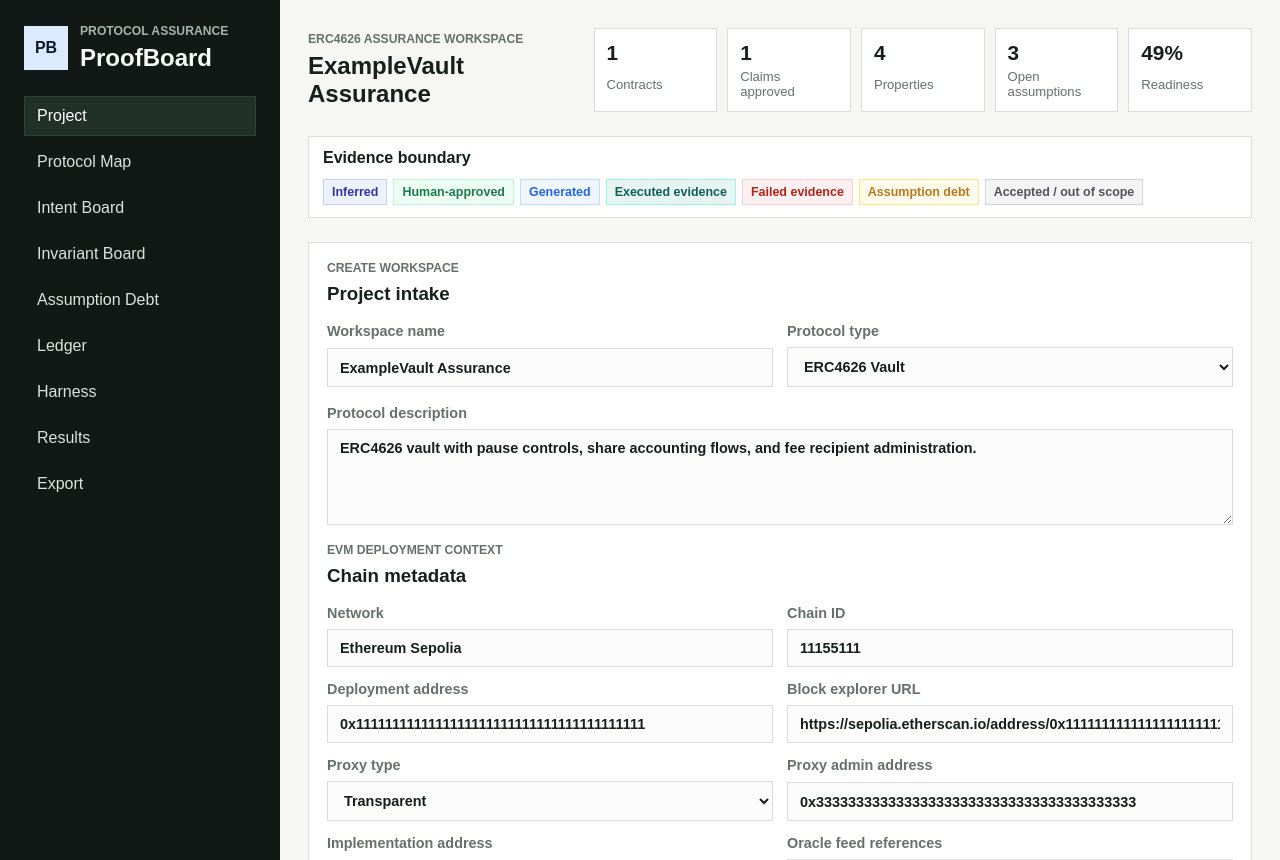
ProofBoard workspace › renders downloadable audit packet artifacts
Click the button "Export" at (140, 484), box [24,464,256,504]
(page scrolled)
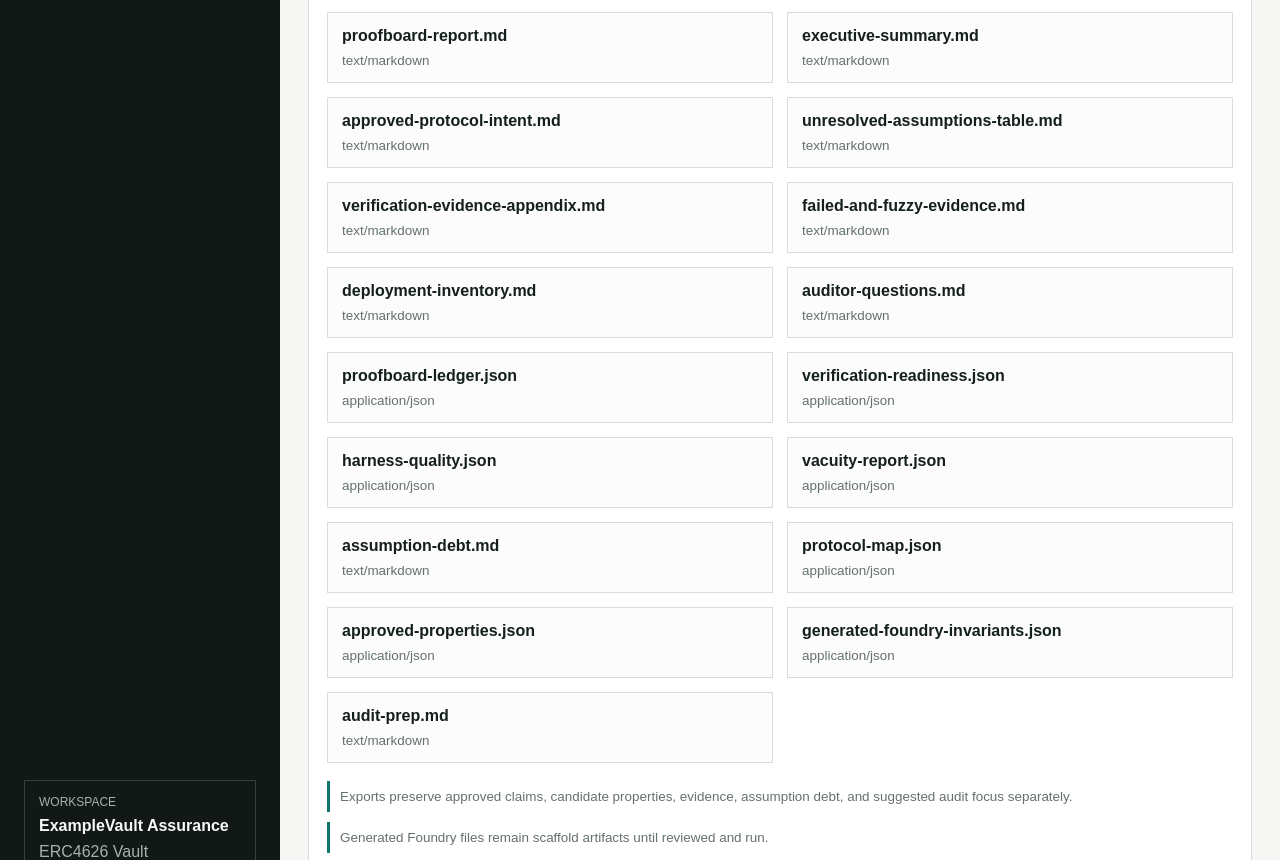
expect the button "proofboard-report.md text/markdown" is shown: met, box [327,12,773,83]
expect the button "executive-summary.md text/markdown" is shown: met, box [787,12,1233,83]
expect the button "auditor-questions.md text/markdown" is shown: met, box [787,267,1233,338]
